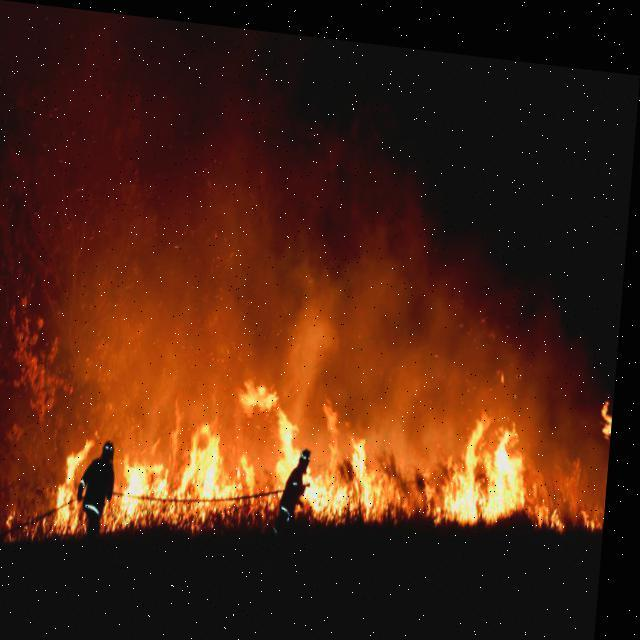Fire: (113, 358, 307, 534), (424, 366, 584, 518), (310, 355, 424, 515), (59, 426, 98, 532), (602, 378, 618, 426), (588, 490, 610, 516), (14, 508, 26, 538), (0, 520, 3, 551)
